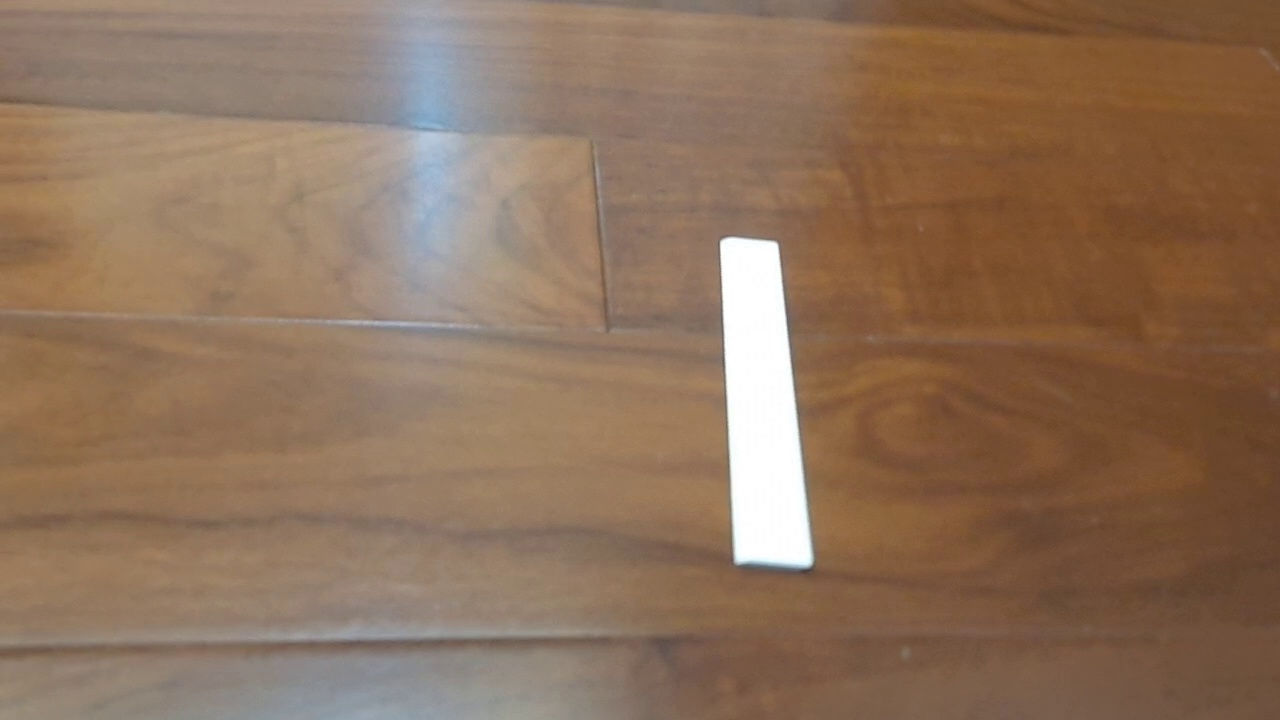ruler: (717, 235, 815, 571)
